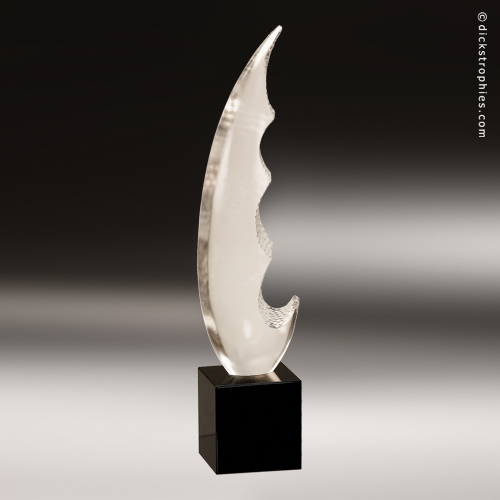trophy: (196, 19, 308, 473)
